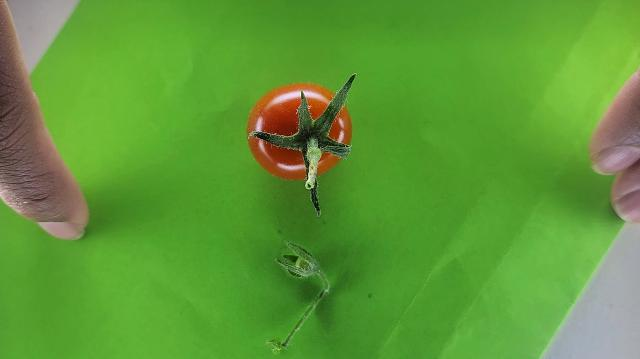Fruit Bud: (277, 254, 311, 277)
Fully Grown: (245, 81, 353, 181)
